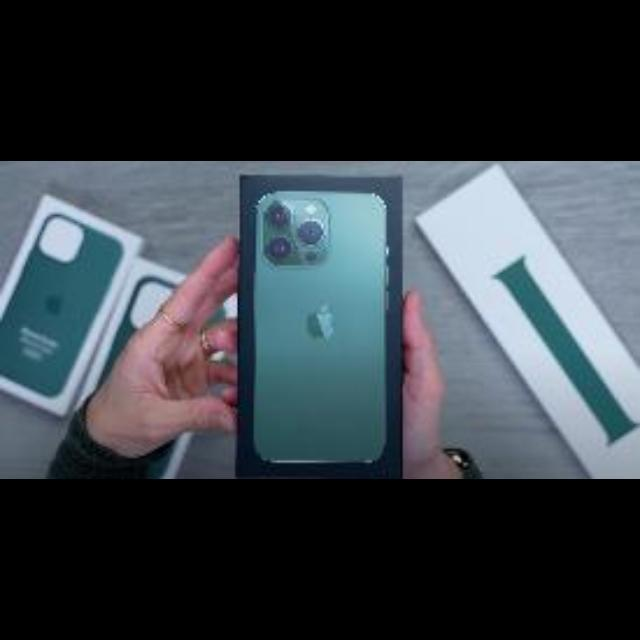Phone: (256, 194, 386, 468)
